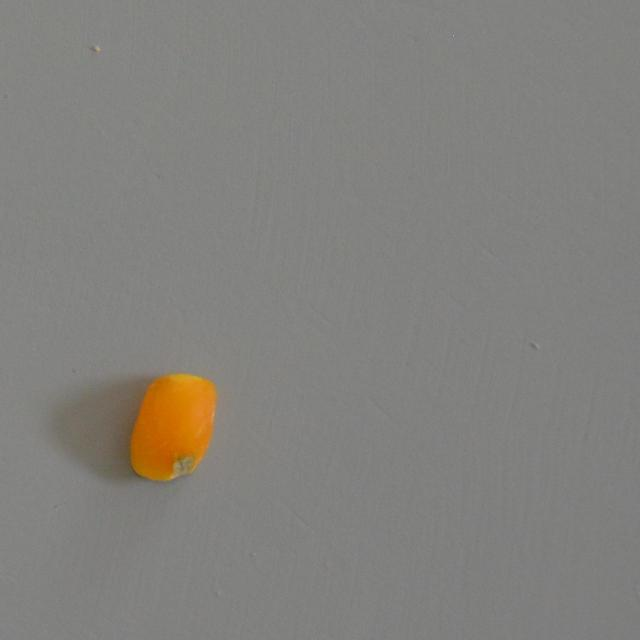dañado: (118, 360, 230, 490)
